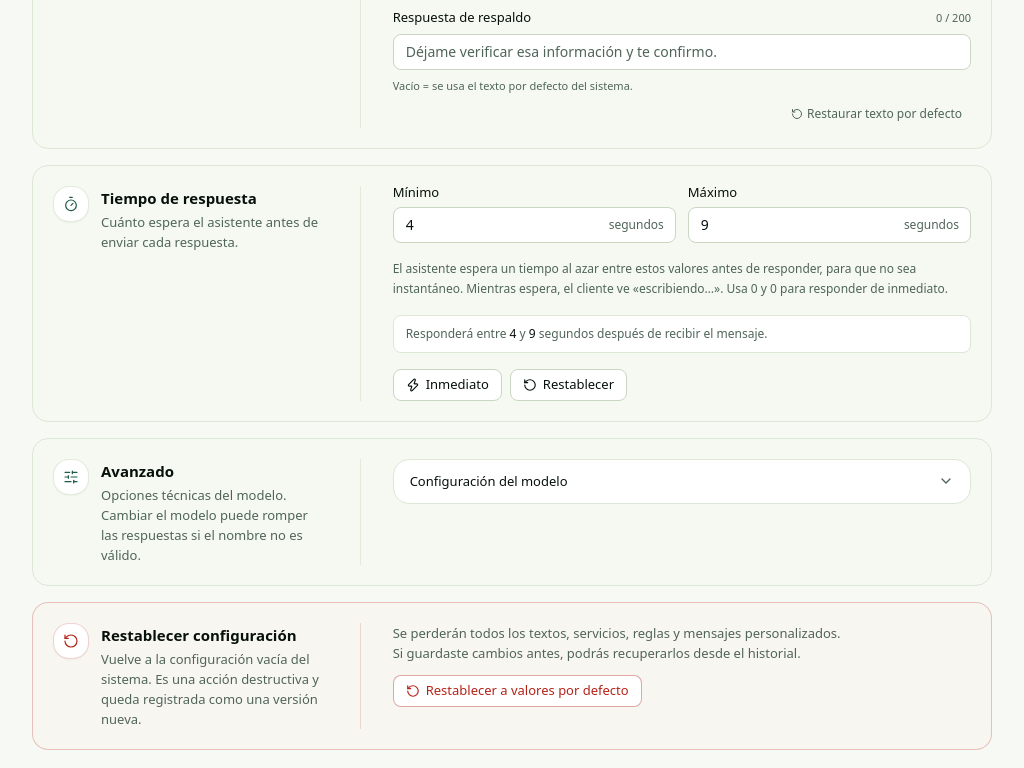
AiSettingsPage › aplica los atajos Inmediato y Restablecer al tiempo de respuesta
This screenshot has width=1024, height=768.
(page scrolled)
Click the button "Inmediato" at (447, 385), box [393,369,502,401]
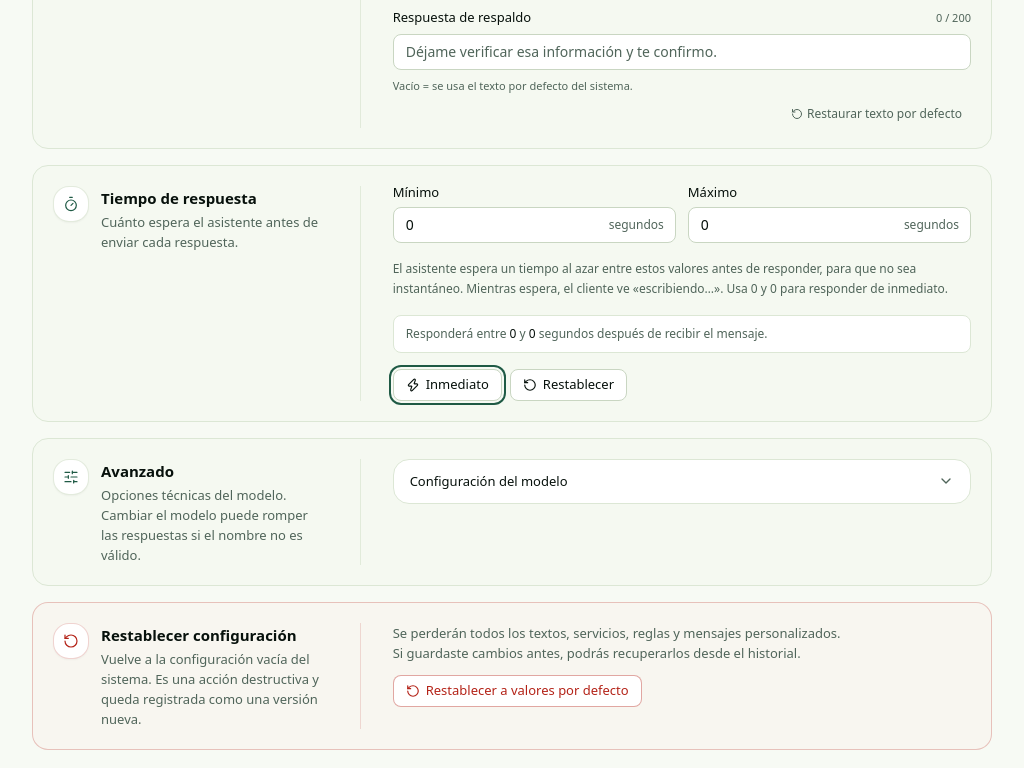
Expected: the number field labelled "Mínimo" holds "0", [393,207,676,243]
Expected: the number field labelled "Máximo" holds "0", [688,207,971,243]
Expected: the message named "Vista previa del tiempo de respuesta" reads "Responderá entre 0 y 0 segundos después de recibir el mensaje.", [393,315,971,353]
Click the button "Restablecer" at (568, 385), box [510,369,627,401]
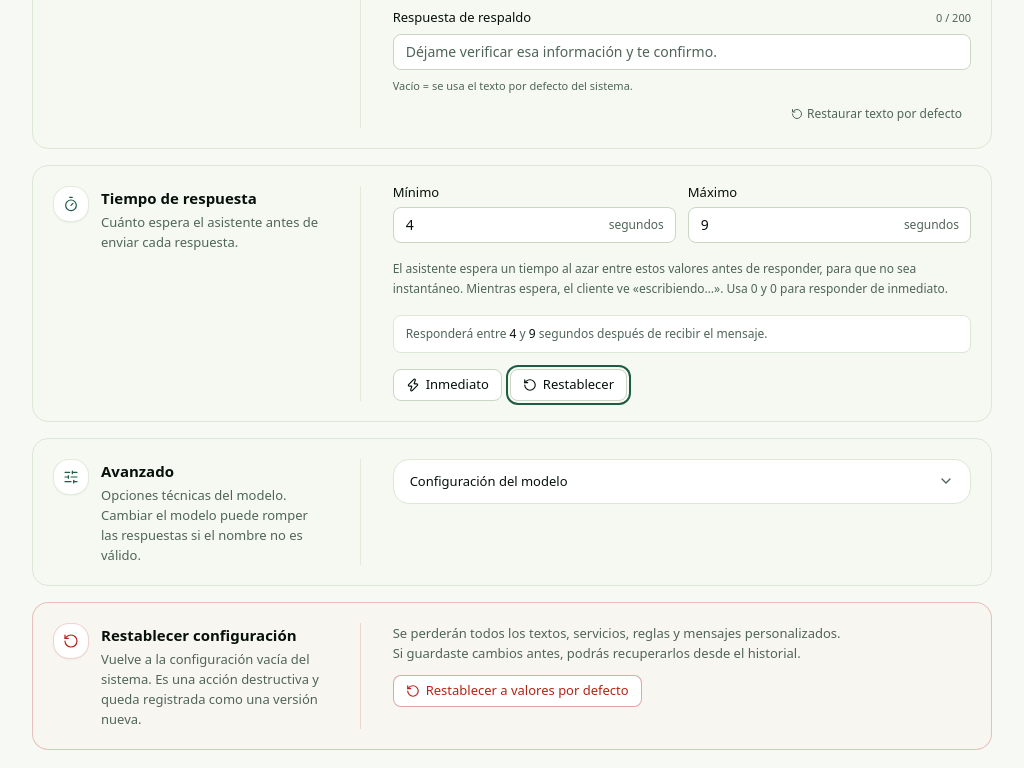
Expected: the number field labelled "Mínimo" holds "4", [393,207,676,243]
Expected: the number field labelled "Máximo" holds "9", [688,207,971,243]
